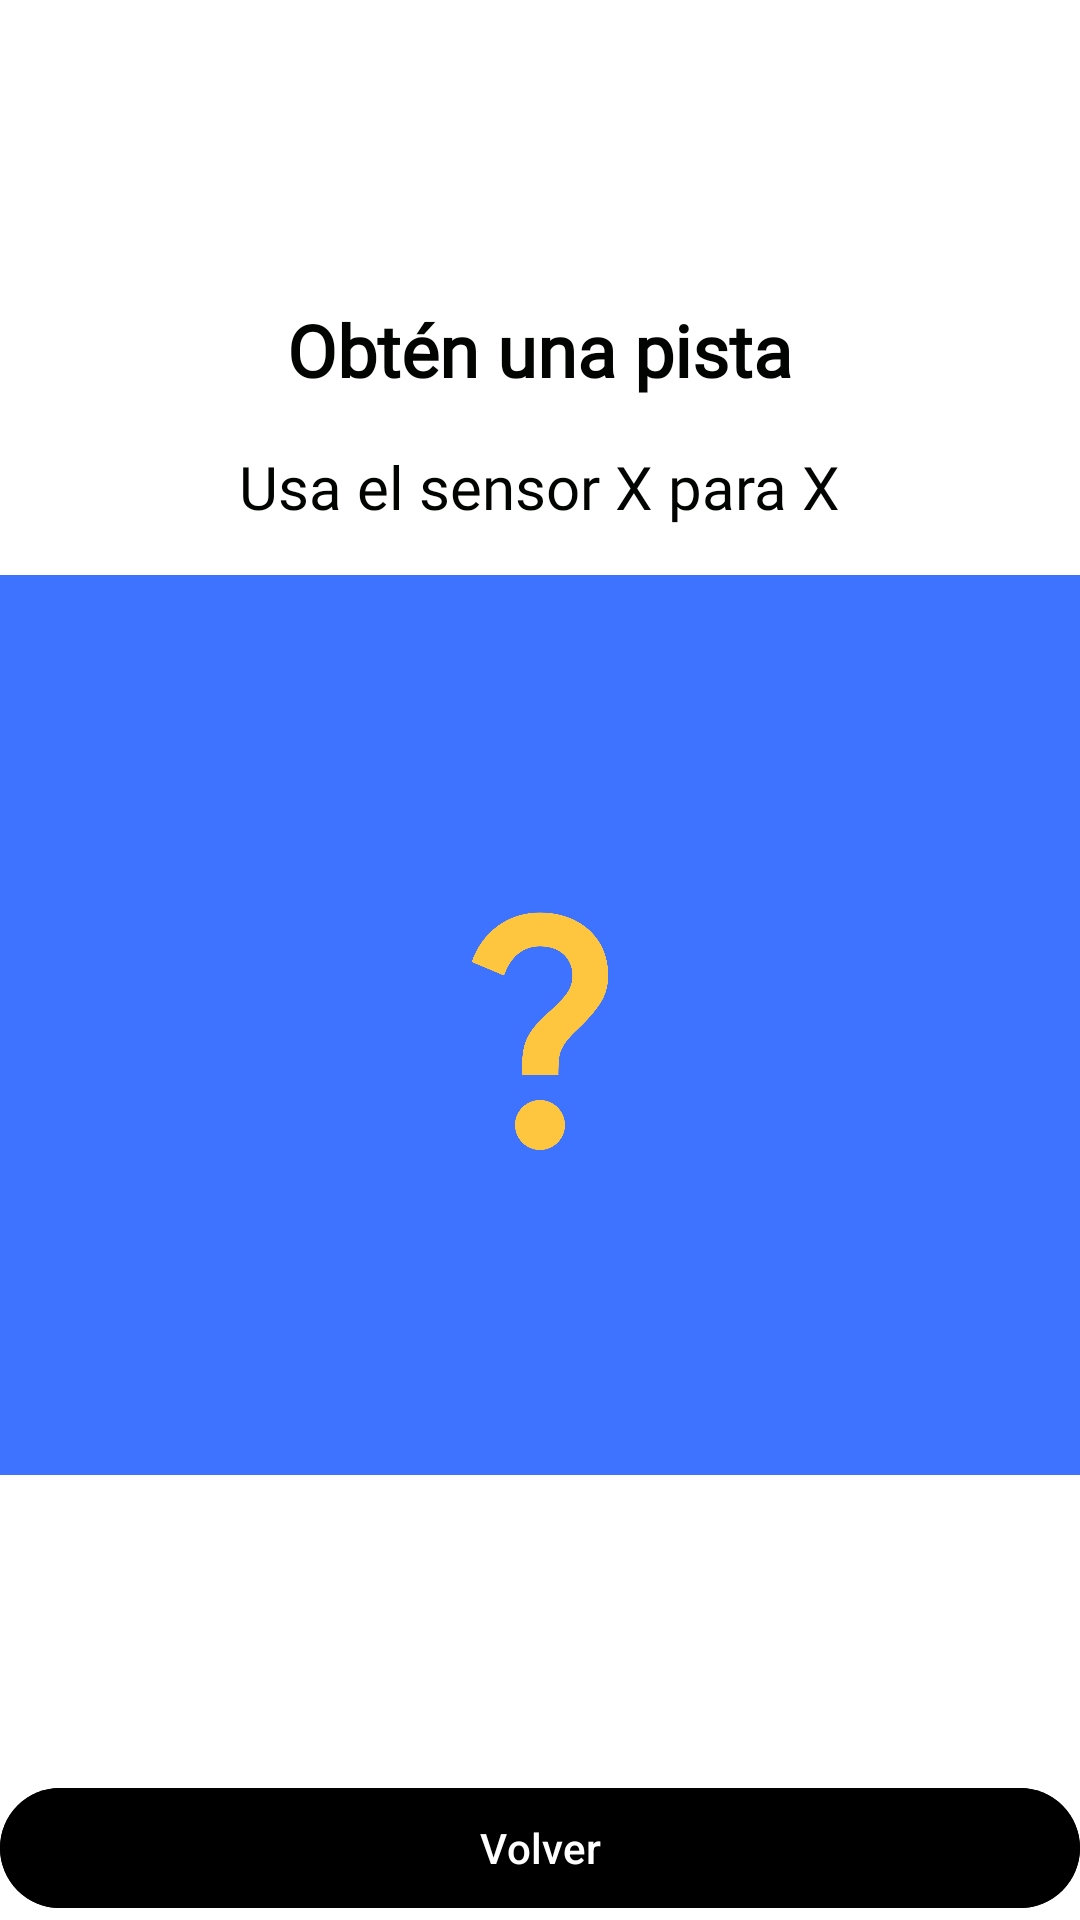

Icon click points for this 1080 × 1920 phone screenshot, format (x,y):
question mark: (540,1031)
